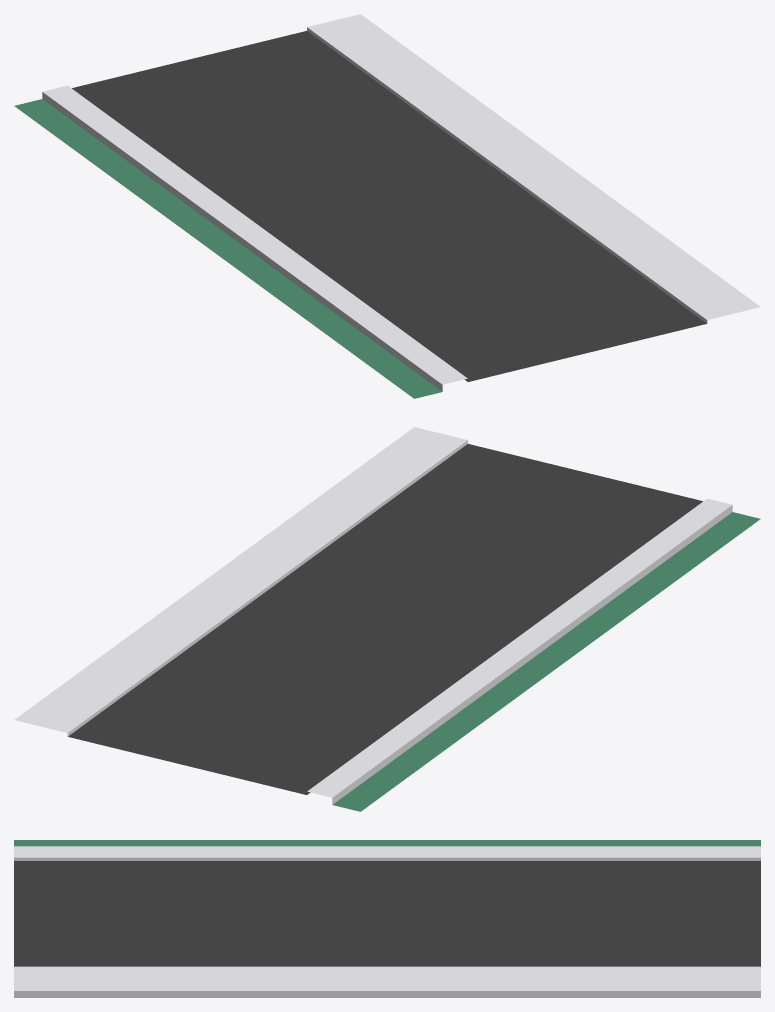
Rendered from roadPitStraightLong.glb.
3 renders of one model, top to bottom at view 1: azimuth 30°, elevation 25°; view 2: azimuth 150°, elevation 25°; view 3: azimuth 270°, elevation 25°, orthographic. The views are drawn at different scales.
Parts seen in each view (by area): view 1: roadPitStraightLong(Clone); view 2: roadPitStraightLong(Clone); view 3: roadPitStraightLong(Clone).
Part boxes in pixels (bbox=[...]): roadPitStraightLong(Clone): bbox=[14, 14, 760, 398]; roadPitStraightLong(Clone): bbox=[14, 427, 760, 811]; roadPitStraightLong(Clone): bbox=[14, 840, 760, 997].
Size of the model in its own units: 1 by 0.02 by 2.
